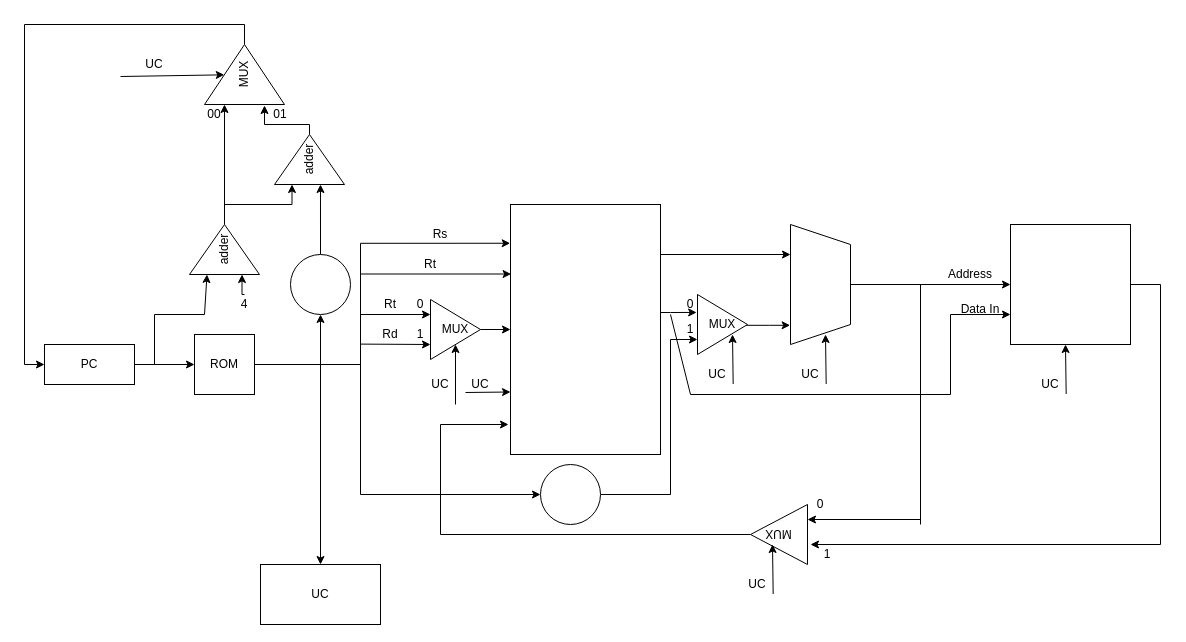
Image size: 1186x642. Some labels were removed from this diagram. Here are the shapes that lost their labels. From the top down, the centre of each, then its label:
At point (320, 284): "shift extender".
At point (820, 284): "ULA".
At point (1070, 284): "RAM".
At point (585, 329): "BANCO REGISRADORES".
At point (570, 494): "extender".
